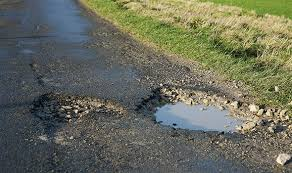pothole: (135, 81, 289, 147), (31, 93, 126, 170), (95, 30, 164, 64), (29, 60, 94, 91), (138, 64, 212, 84), (229, 149, 292, 169), (145, 142, 179, 171)
